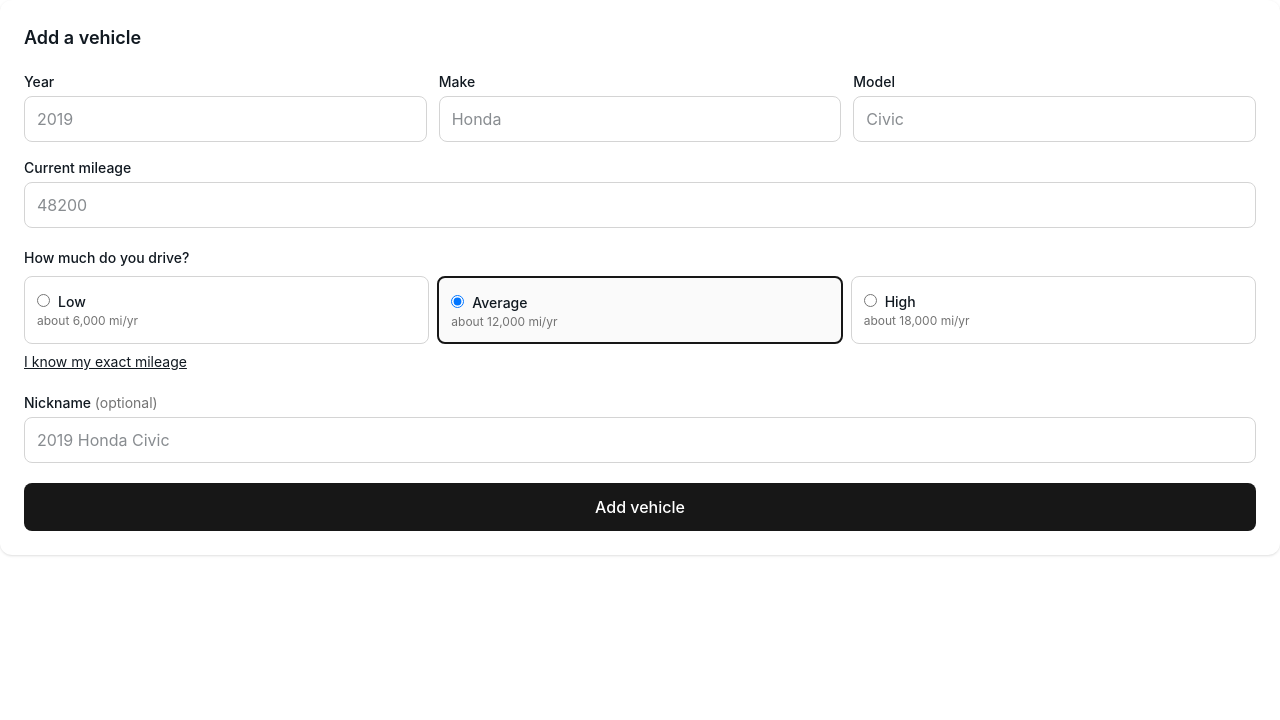
it: AddVehicleForm › reports each empty required field separately
This screenshot has width=1280, height=720.
Click the button "Add vehicle". click: point(640, 507)
box: [24,483,1256,531]
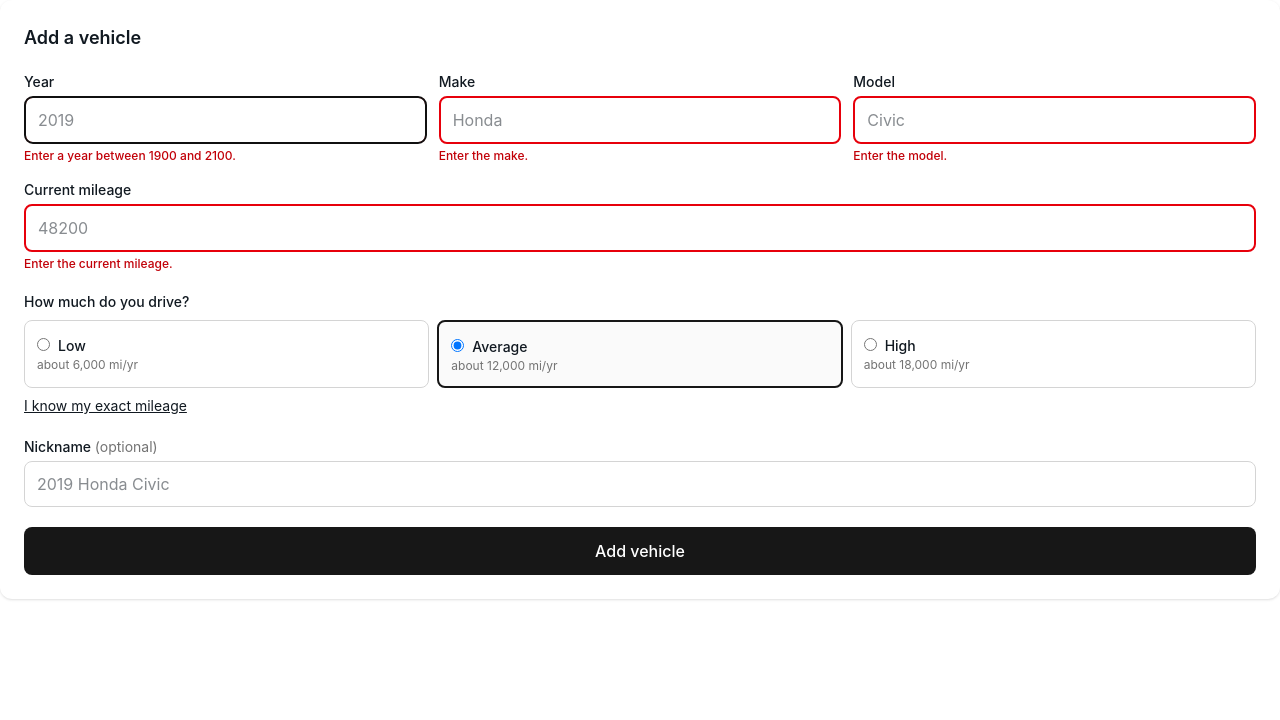
Expected: the text "Enter a year between 1900 and 2100." is shown, [24,148,236,163]
Expected: the text "Enter the make." is shown, [439,148,528,163]
Expected: the text "Enter the model." is shown, [853,148,947,163]
